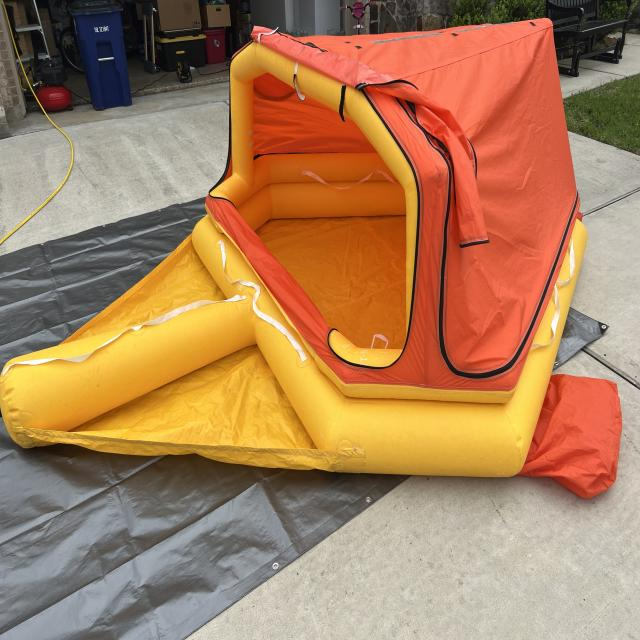Multi-person_life_raft: (1, 16, 624, 498)
